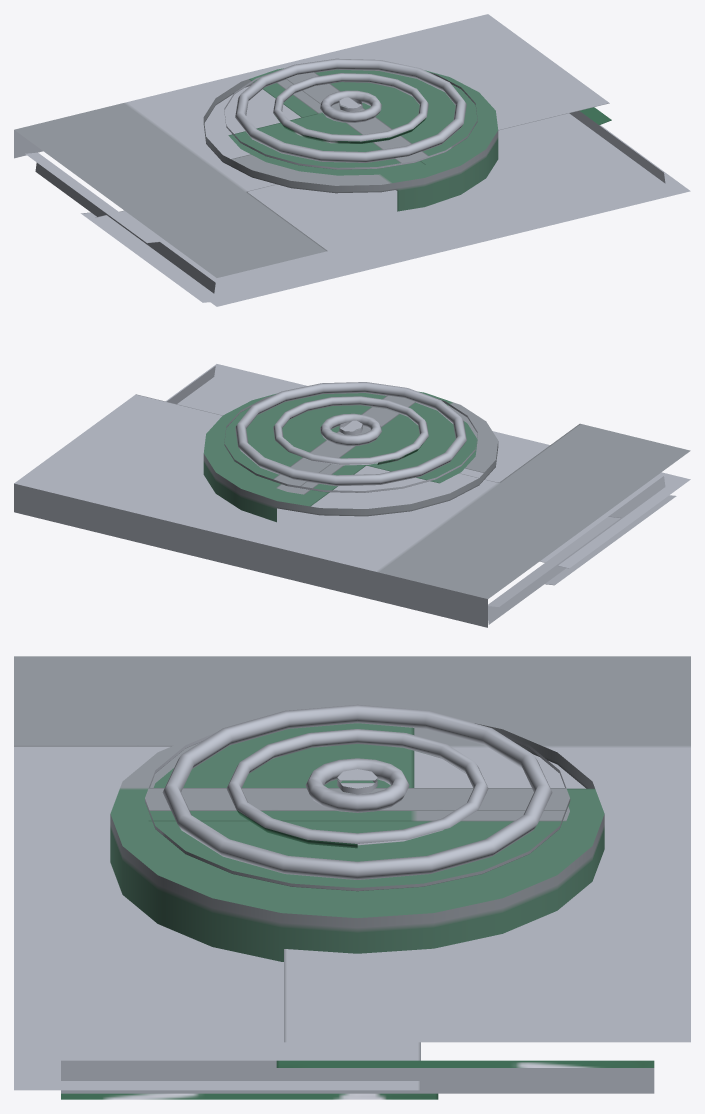
Rendered from section-1.obj.
The picture shows the model from 3 angles, top to bottom: view 1: azimuth 30°, elevation 25°; view 2: azimuth 150°, elevation 25°; view 3: azimuth 270°, elevation 25°; orthographic projection. The views are drawn at different scales.
Size of the model in its own units: 1 by 0.1602 by 0.7411.
